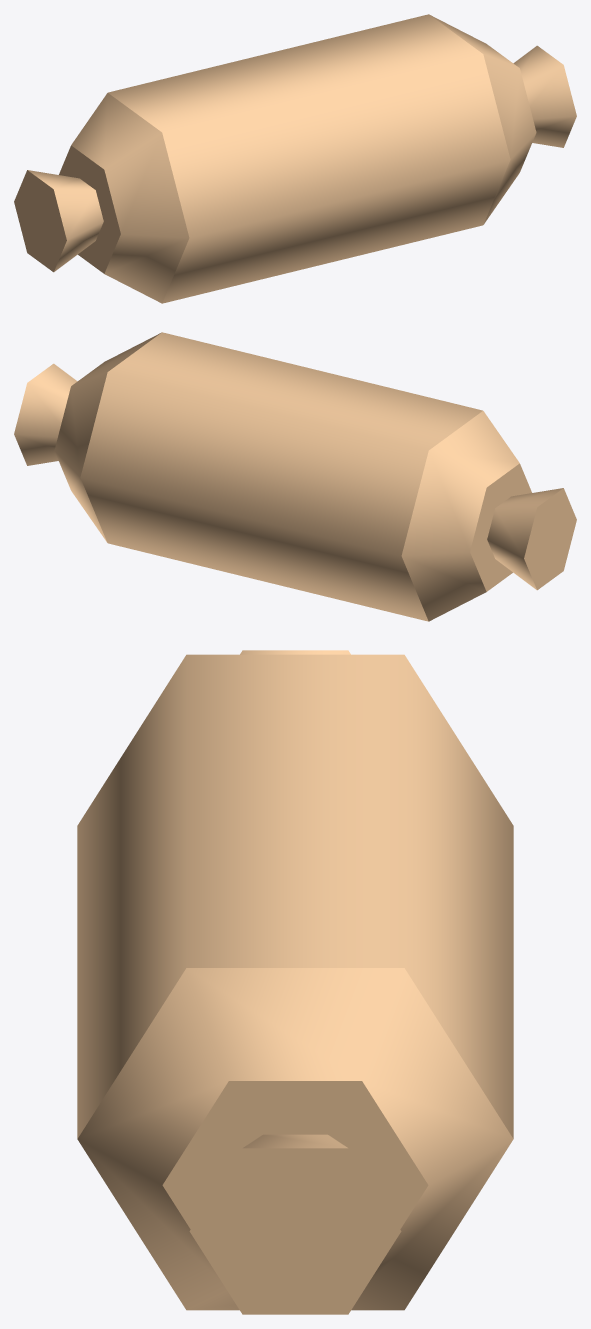
Rendered from sausage.obj.
3 views of the same model, one above another, from view 1: azimuth 30°, elevation 25°; view 2: azimuth 150°, elevation 25°; view 3: azimuth 270°, elevation 25° (orthographic). The views are drawn at different scales.
Parts seen in each view (by area): view 1: sausage; view 2: sausage; view 3: sausage.
Part boxes in pixels (x1=…): sausage: x1=14, y1=14, x2=576, y2=303; sausage: x1=14, y1=332, x2=576, y2=621; sausage: x1=77, y1=650, x2=513, y2=1314.
Size of the model in its own units: 0.3707 by 0.1189 by 0.1373.
